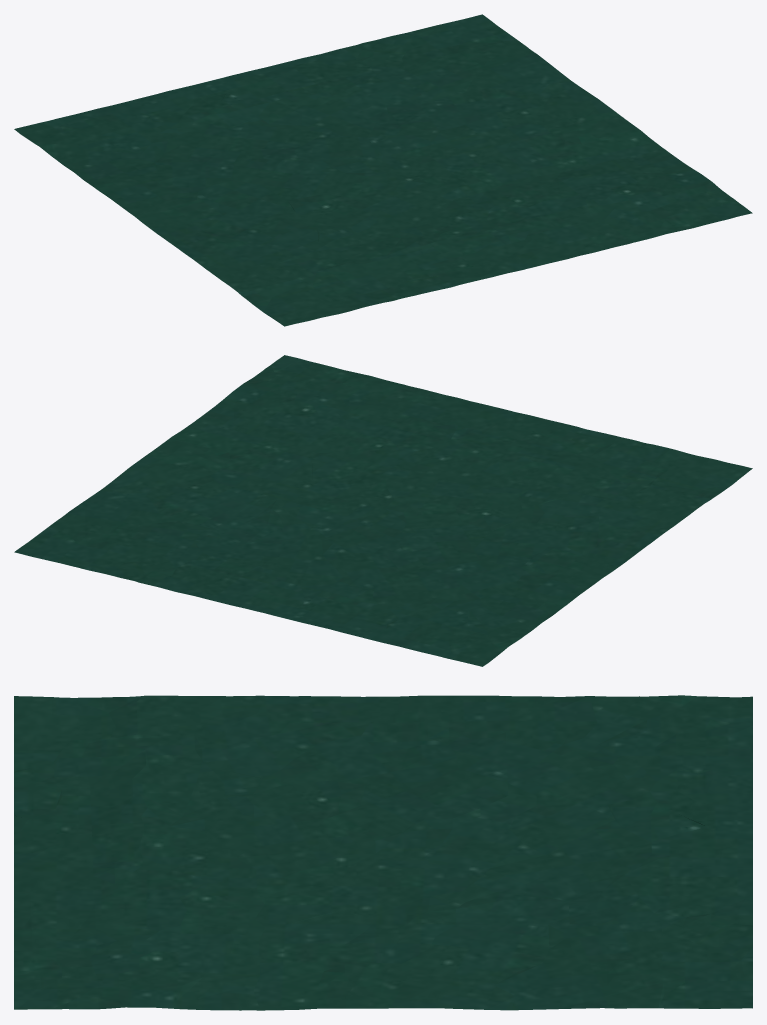
3 renders of one model, top to bottom at view 1: azimuth 30°, elevation 25°; view 2: azimuth 150°, elevation 25°; view 3: azimuth 270°, elevation 25°, orthographic. The views are drawn at different scales.
Bounding box in the file's own units: 104 × 0.7113 × 104.
2 materials, 2 textured.
